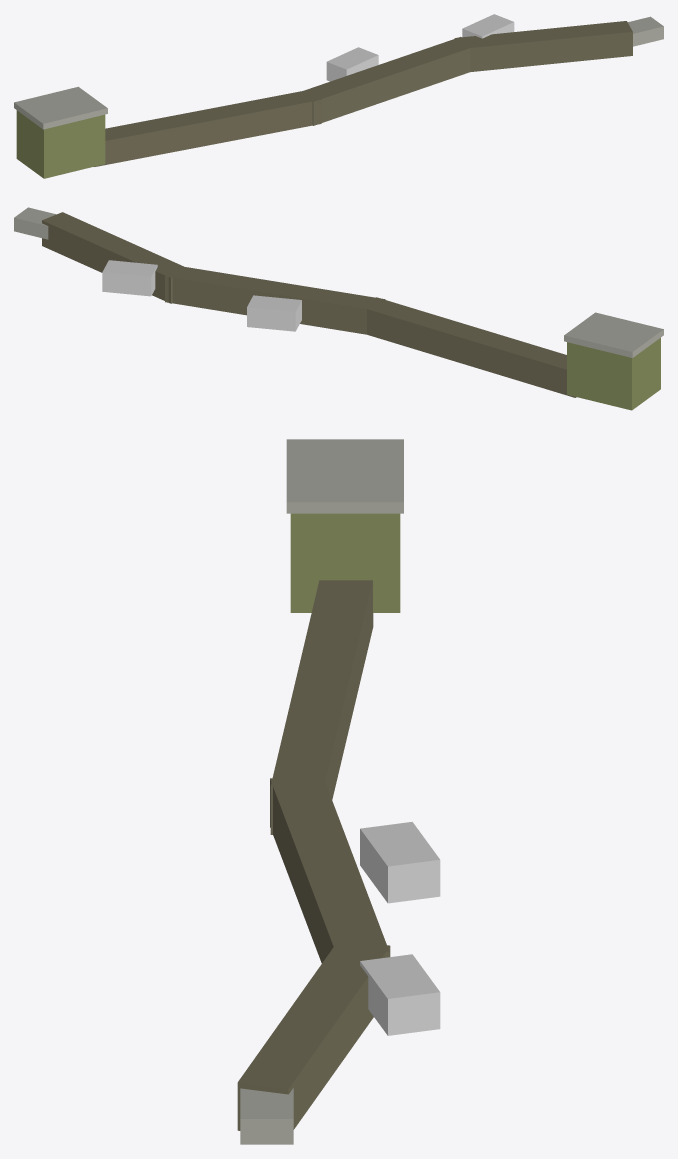
File: SM_Manguera_v4_Boquerel_LOD1.fbx
3 views of the same model, one above another, from view 1: azimuth 30°, elevation 25°; view 2: azimuth 150°, elevation 25°; view 3: azimuth 270°, elevation 25° (orthographic). The views are drawn at different scales.
Visible parts, largest first — view 1: SM_farp_betera_v9_LOD1; view 2: SM_farp_betera_v9_LOD1; view 3: SM_farp_betera_v9_LOD1.
Part boxes in pixels (x1,y1,x2,y2): SM_farp_betera_v9_LOD1: (14,14,663,178); SM_farp_betera_v9_LOD1: (14,207,663,410); SM_farp_betera_v9_LOD1: (237,439,440,1144).
Bounding box in the file's own units: 8.98 × 0.9 × 1.29.
